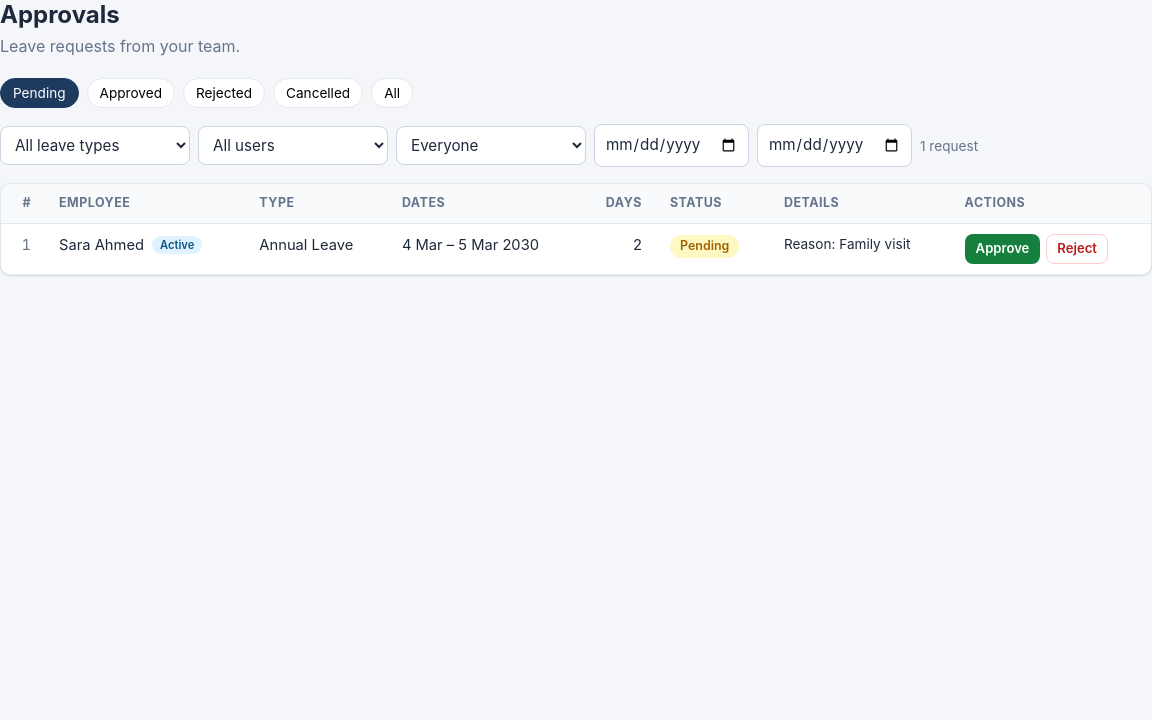
Scenario: ApprovalsPage › approves with an optional comment
Click the button "Approve": click(1002, 249) [965,234,1040,264]
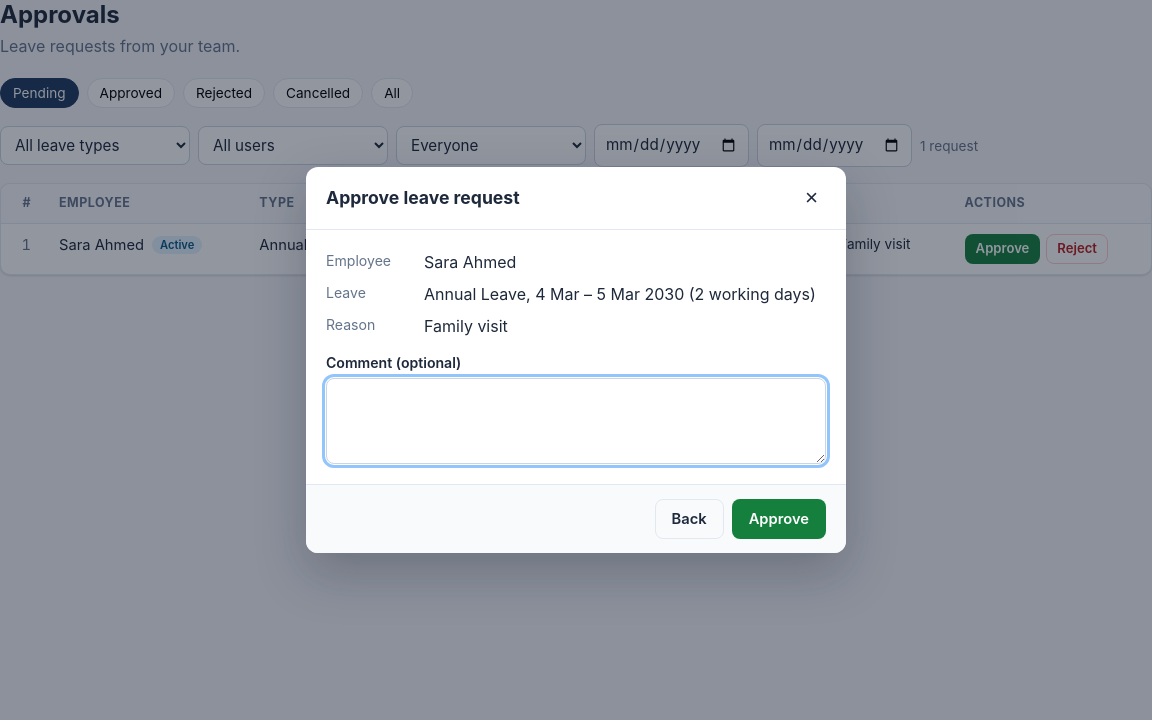
Click the button "Approve": click(779, 519) [732,499,826,539]
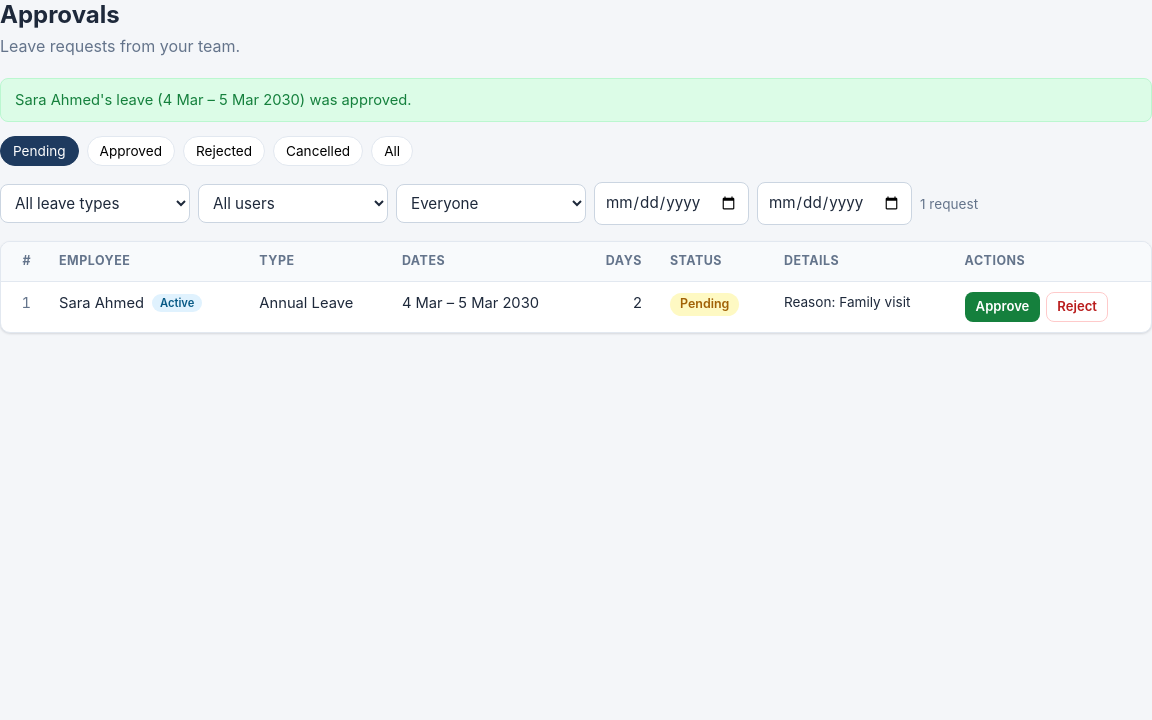
Now the text "Sara Ahmed's leave (4 Mar – 5 Mar 2030) was approved." is shown, box [15,89,412,111]
